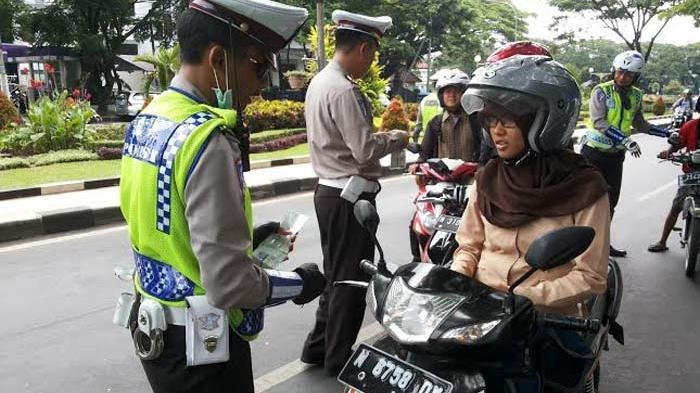plate: (334, 343, 456, 393)
